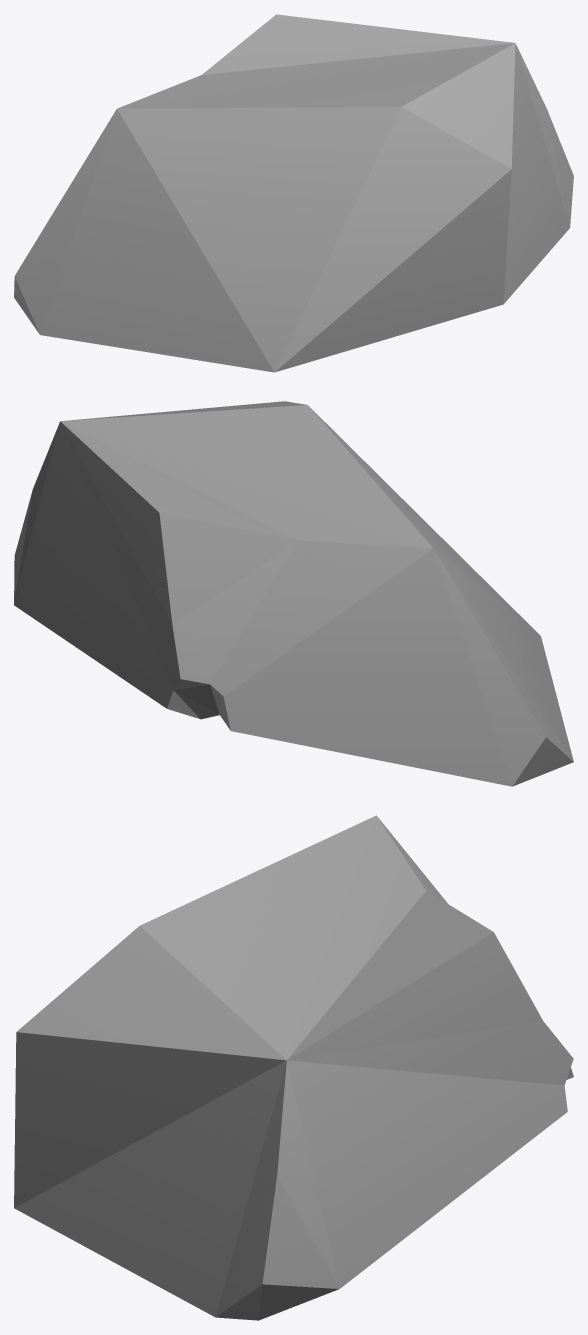
Rendered from stone-small-11.glb.
3 views of the same model, one above another, from view 1: azimuth 30°, elevation 25°; view 2: azimuth 150°, elevation 25°; view 3: azimuth 270°, elevation 25° (orthographic). The views are drawn at different scales.
Visible parts, largest first — view 1: stone small 11; view 2: stone small 11; view 3: stone small 11.
Part boxes in pixels (bbox=[...]): stone small 11: bbox=[14, 14, 573, 372]; stone small 11: bbox=[14, 401, 573, 786]; stone small 11: bbox=[14, 815, 573, 1320].
Bounding box in the file's own units: 0.6737 × 0.2766 × 0.4598.
Materials: 1 (1 with a texture image).
